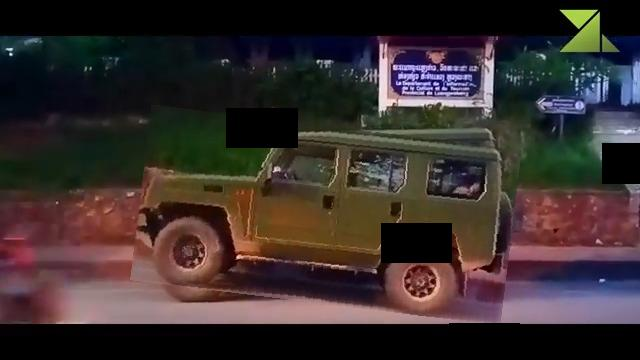MIL_HMMWV: (135, 115, 517, 314)
